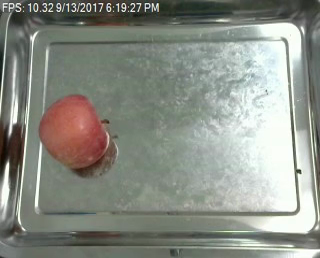Apple: (36, 92, 109, 170)
